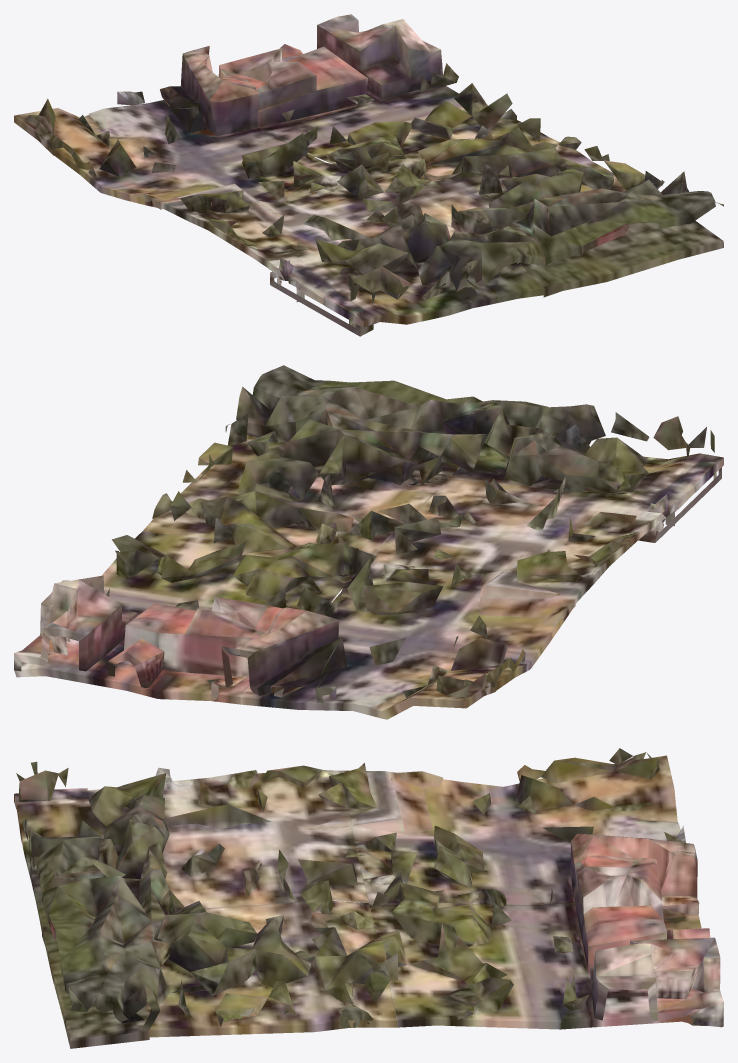
The picture shows the model from 3 angles, top to bottom: view 1: azimuth 30°, elevation 25°; view 2: azimuth 150°, elevation 25°; view 3: azimuth 270°, elevation 25°; orthographic projection. The views are drawn at different scales.
Visible parts, largest first — view 1: Mesh_0; view 2: Mesh_0; view 3: Mesh_0.
Part boxes in pixels (box(x1,y1,x2,y2)): Mesh_0: box(14, 14, 723, 336); Mesh_0: box(14, 365, 723, 719); Mesh_0: box(14, 748, 723, 1048).
Size of the model in its own units: 266 by 48.56 by 329.
Materials: 2 (2 with a texture image).
